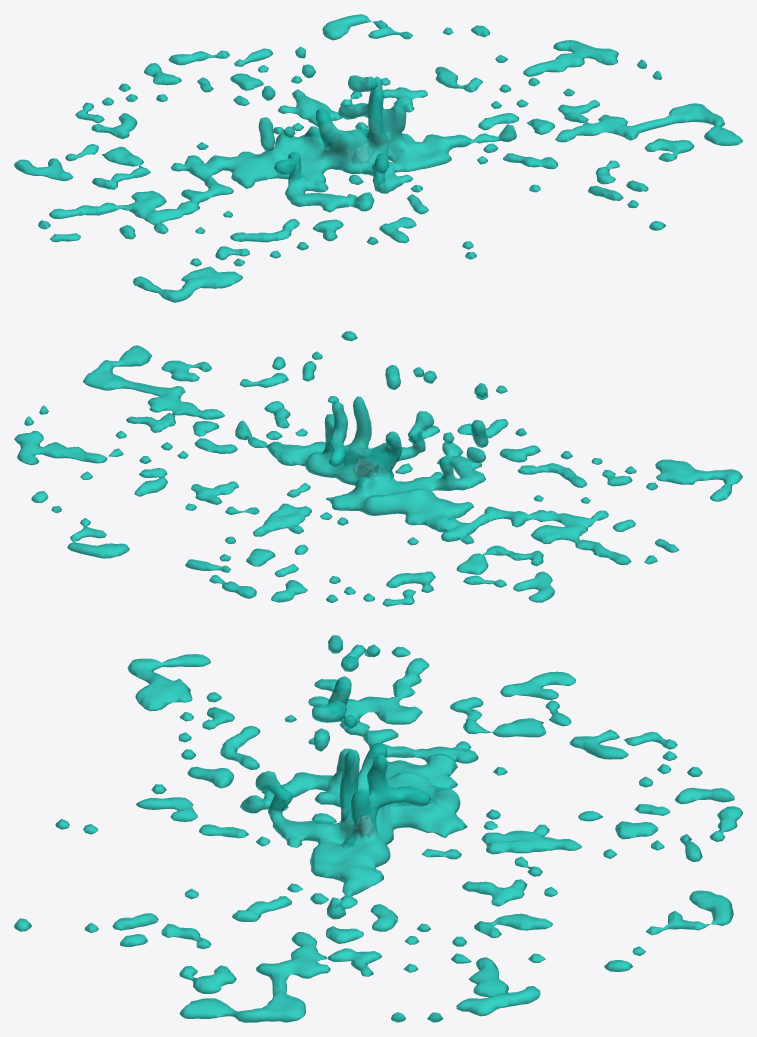
3 renders of one model, top to bottom at view 1: azimuth 30°, elevation 25°; view 2: azimuth 150°, elevation 25°; view 3: azimuth 270°, elevation 25°, orthographic. The views are drawn at different scales.
Visible parts, largest first — view 1: Liquid_Domain; view 2: Liquid_Domain; view 3: Liquid_Domain.
Part boxes in pixels (box(x1,y1,x2,y2)): Liquid_Domain: box(14, 14, 742, 302); Liquid_Domain: box(14, 331, 742, 606); Liquid_Domain: box(14, 635, 742, 1022).
Bounding box in the file's own units: 12.39 × 2.48 × 10.21.
